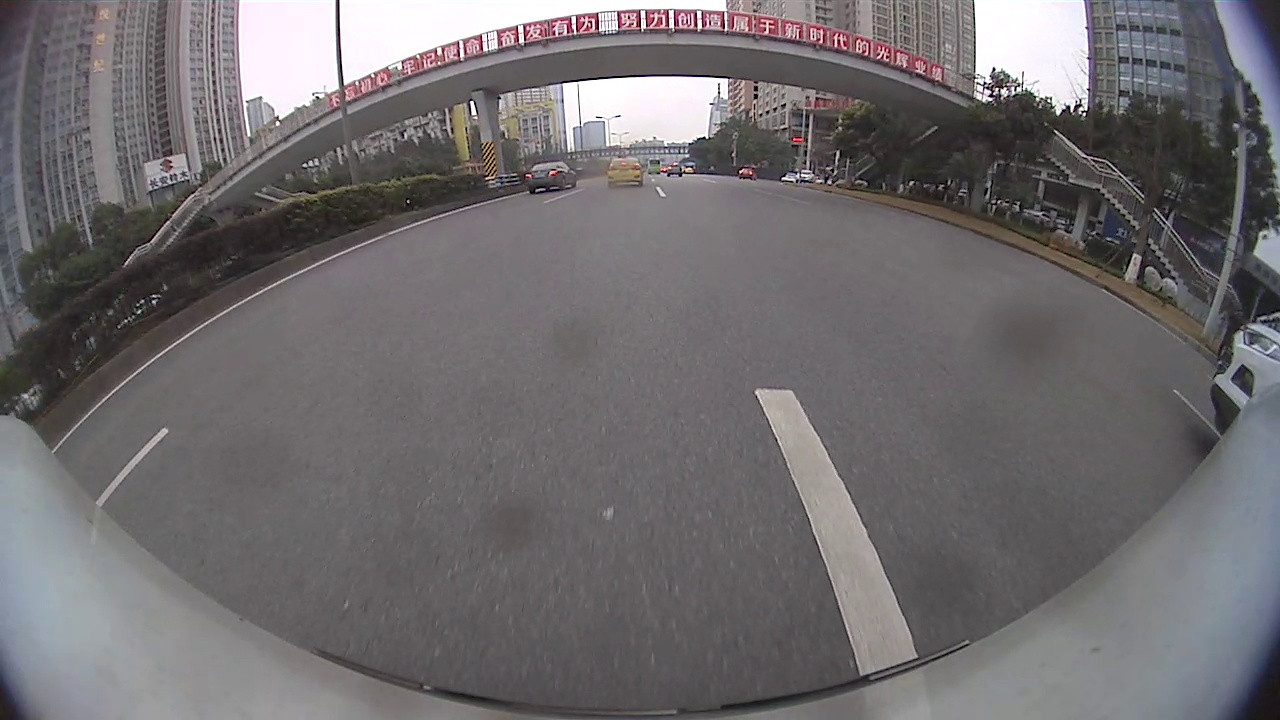bus: (645, 158, 663, 174)
car: (1212, 323, 1279, 437), (526, 162, 578, 194), (607, 159, 642, 188), (739, 166, 758, 181), (666, 163, 682, 177)
